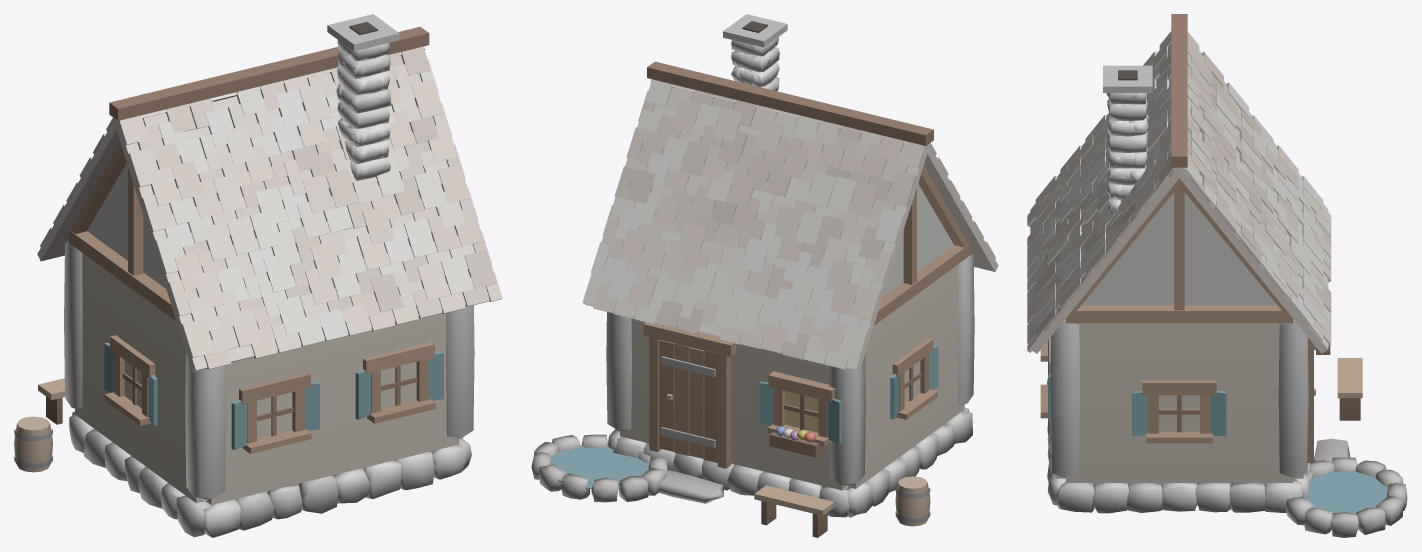
The model's file is hw_medieval_bathhouse.glb.
The picture shows the model from 3 angles, left to right: view 1: azimuth 30°, elevation 25°; view 2: azimuth 150°, elevation 25°; view 3: azimuth 270°, elevation 25°; orthographic projection. The views are drawn at different scales.
Visible parts, largest first — view 1: Building; view 2: Building; view 3: Building.
Part boxes in pixels (x1,y1,x2,y2): Building: (14, 14, 502, 537); Building: (531, 14, 998, 537); Building: (1027, 14, 1407, 537).
Size of the model in its own units: 4.15 by 4.37 by 3.67.
